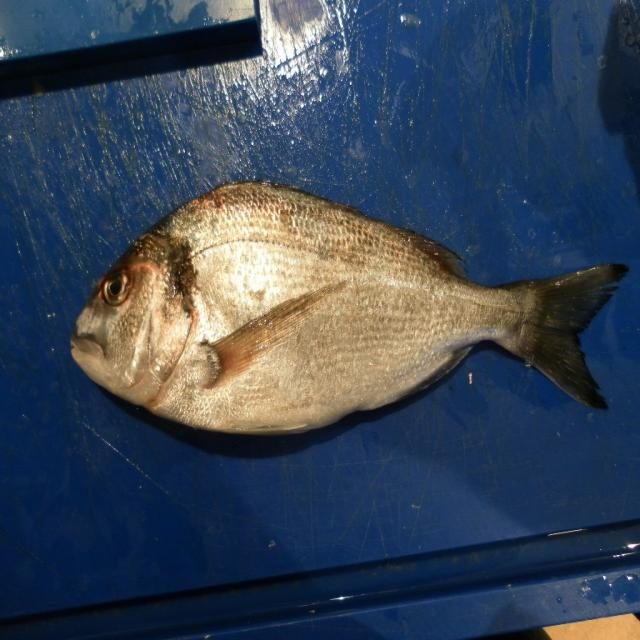Gilt-Head-Bream-c-ipura-: (69, 182, 628, 438)
